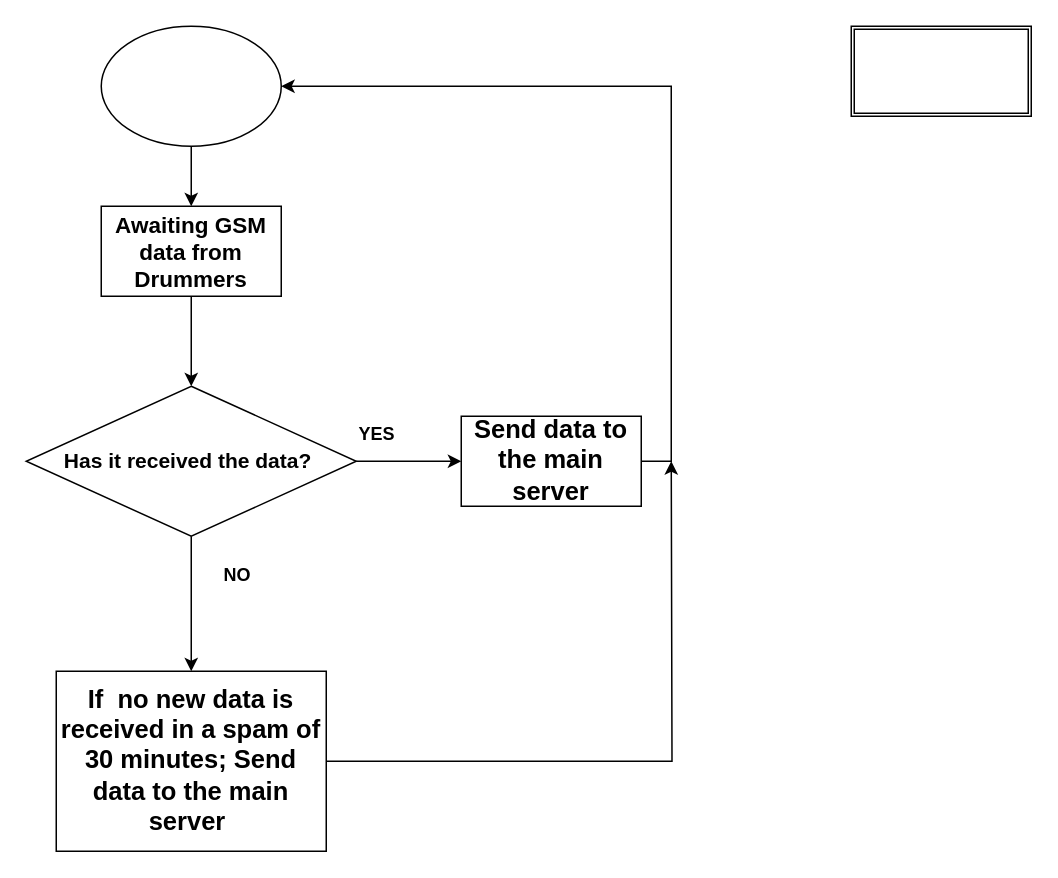
The diagram is 1058 pixels wide and 878 high, and some of its shapes have lost their labels. Here are the shapes that lost their labels. From the top down, the box of each, then its label:
(100, 25, 281, 146): START
(850, 25, 1031, 116): Maestro
